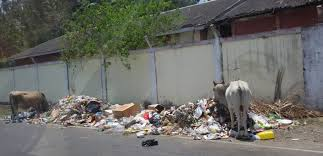garbage: (102, 105, 215, 133), (57, 97, 110, 126), (254, 100, 300, 128)
